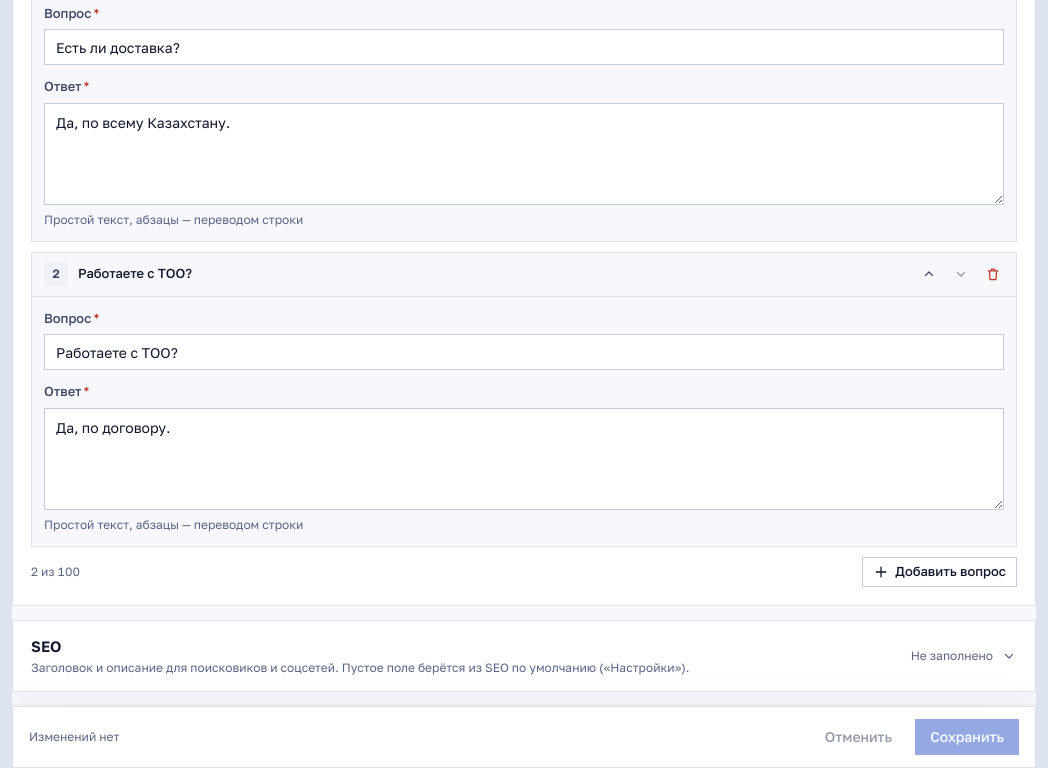
Test: редактирование и сохранение › правка → PUT всего раздела по схеме → toast, изменений больше нет
(page scrolled)
Expected: the button "Сохранить" is shown, [915,719,1019,755]
Replace the text in the text box labelled "Ответ*" below "Работаете с ТОО?" with "  Да.  " at (524, 459), box [44,408,1004,510]
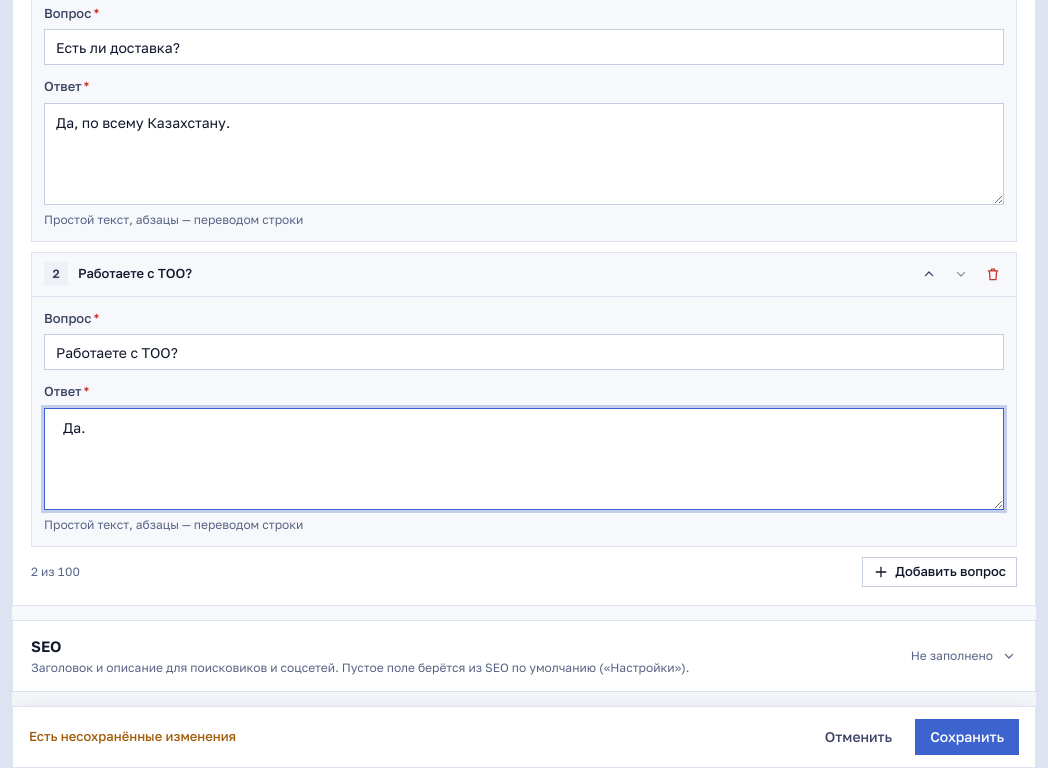
Expected: the text "Есть несохранённые изменения" is shown, [29,727,236,747]
Click the button "Сохранить" at (967, 737), box [915,719,1019,755]
(page scrolled)
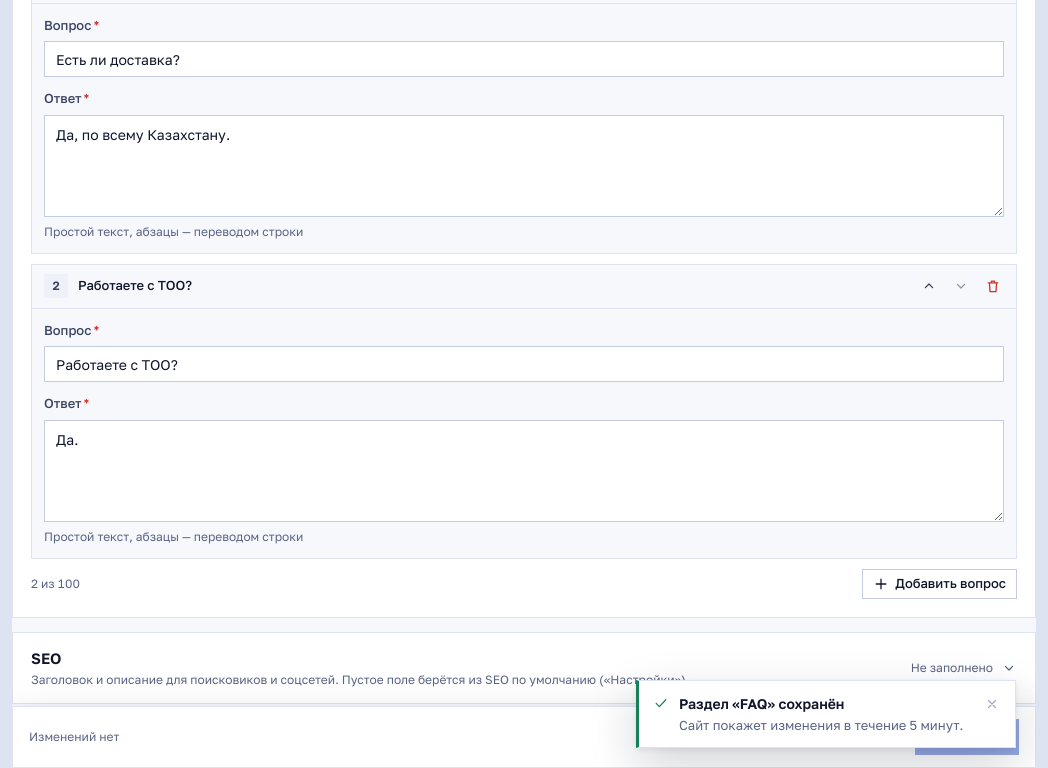
Expected: the text "Раздел «FAQ» сохранён" is shown, [679,694,844,712]
Expected: the text "Изменений нет" is shown, [29,728,119,746]
Expected: the button "Сохранить" is disabled, [915,719,1019,755]
